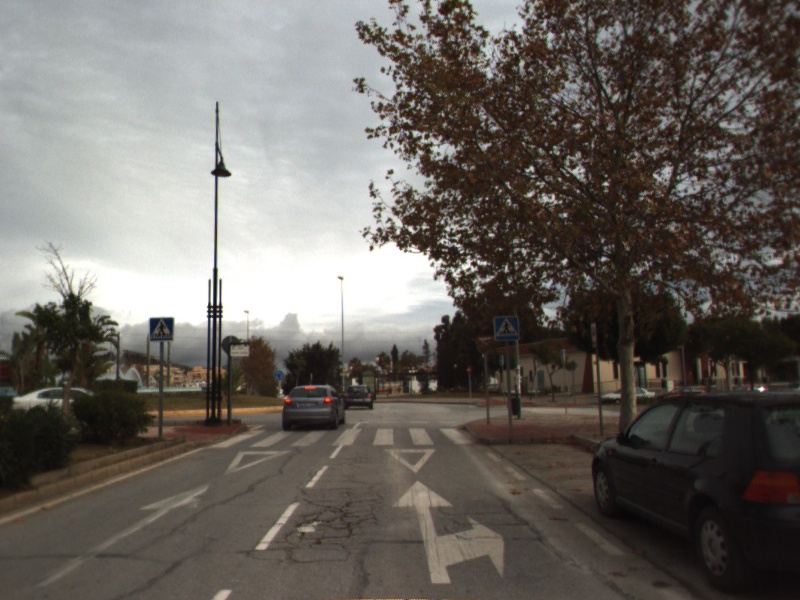STRAIGHT: (32, 480, 213, 590)
STRAIGHT_RIGHT: (389, 478, 507, 586)
